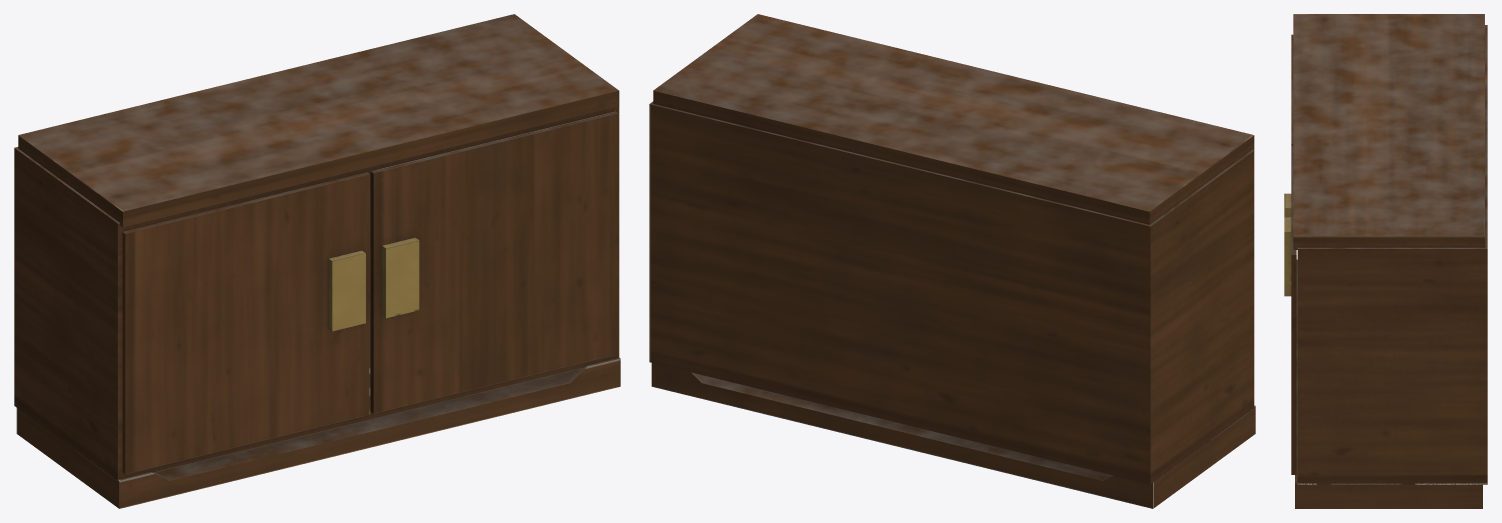
Rendered from H_Dresser_Credenza.fbx.
3 renders of one model, left to right at view 1: azimuth 30°, elevation 25°; view 2: azimuth 150°, elevation 25°; view 3: azimuth 270°, elevation 25°, orthographic. The views are drawn at different scales.
Parts seen in each view (by area): view 1: H_Dresser_Credenza; view 2: H_Dresser_Credenza; view 3: H_Dresser_Credenza.
Boxes of the visible parts, box(x1,y1,x2,y2) form: H_Dresser_Credenza: box(14, 14, 620, 508); H_Dresser_Credenza: box(649, 14, 1255, 508); H_Dresser_Credenza: box(1284, 14, 1487, 508).
Size of the model in its own units: 600 by 340 by 230.
Materials: 1 (1 with a texture image).
